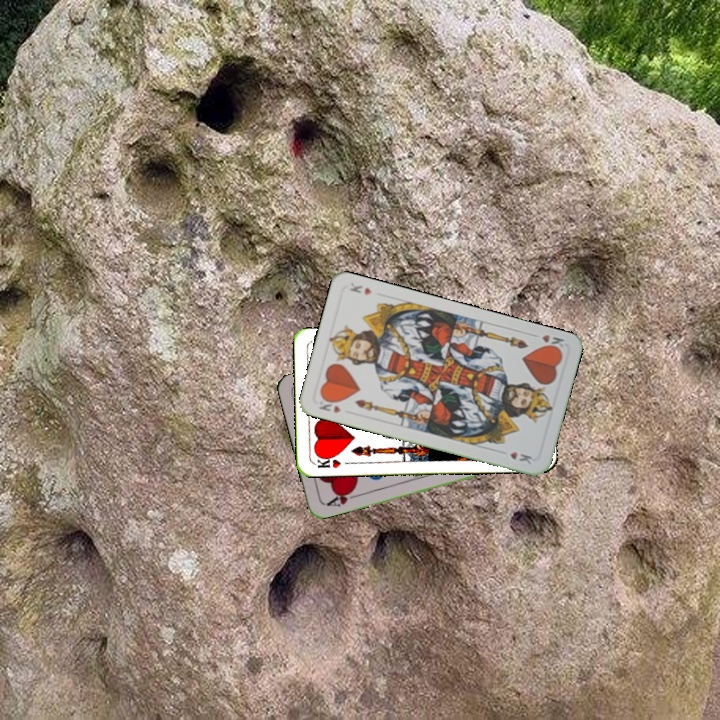HA: (322, 485, 361, 509)
HK: (527, 330, 567, 354), (311, 452, 352, 471), (315, 393, 343, 416)
